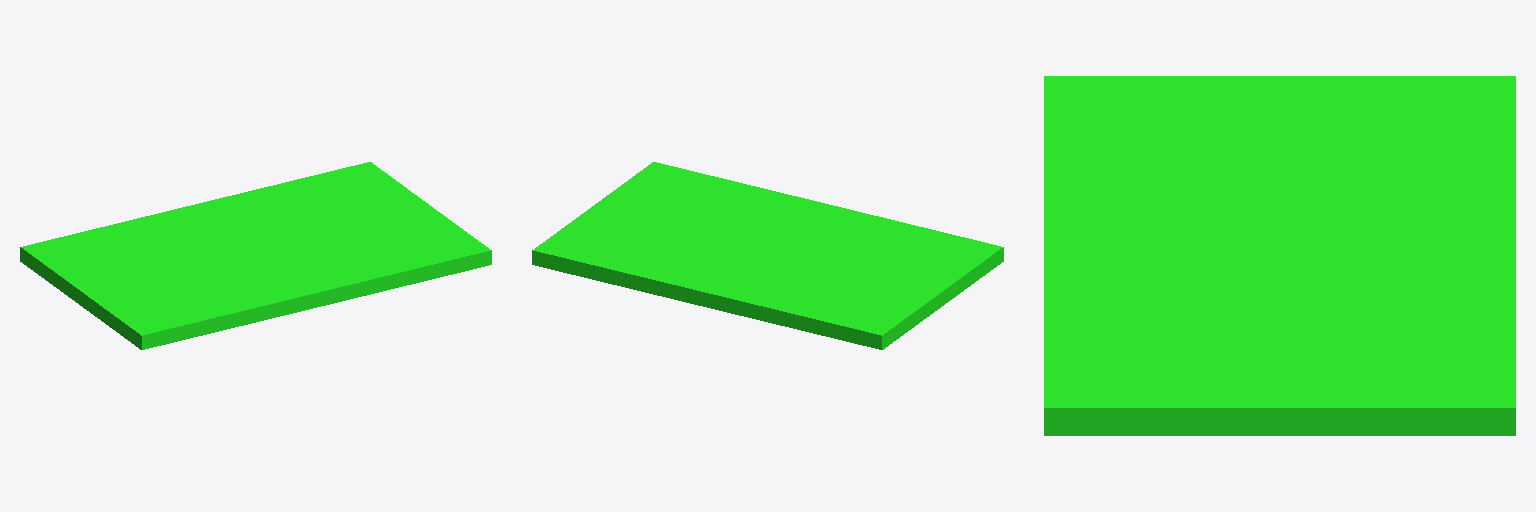
URDF robot description (robot):
<?xml version="1.0"?>
<robot name="robot">
<!-- -->
<!--<robot xmlns:xacro="http://www.ros.org/wiki/xacro" name="robot_arm">-->

    <!--<xacro:include filename="robot_arm_include.xacro"/>-->


    <!-- links and joints -->

    <!-- world -->
    <!-- empty because it is anchorpoint for world -->
    <link name="world"></link>

    <joint name="base_joint" type="fixed">
        <origin xyz="1.5 1.0 0" rpy="0 0 0"/>
        <parent link="world"/>
        <child link="base_link"/>        
    </joint>

    <link name="base_link">
        <visual>
            <origin xyz="0 0 0.05" rpy="0 0 0"/>
            <geometry>
                <box size ="2.5 1.5 0.1" />
            </geometry>
            <material name="green">
                <color rgba="0.2 1 0.2 1"/>
            </material>
        </visual>
        <collision>
            <origin xyz="0 0 0.05" rpy="0 0 0"/>
            <geometry>
                <box size ="2.5 1.5 0.1" />
            </geometry>
        </collision>
        <inertial>
            <origin xyz="0 0 0.05" rpy="0 0 0"/>
            <mass value="12" />
            <inertia ixx="2.26" ixy="0.0" ixz="0.0" iyy="6.26" iyz="0.0" izz="8.6" />
        </inertial>
    </link>

</robot>

--- What the picture shows (computed from the rendered views, not written in the file) ---
Views: 3 orthographic renders of the robot side by side, from view 1: azimuth 30°, elevation 25°; view 2: azimuth 150°, elevation 25°; view 3: azimuth 270°, elevation 25°.
Robot: robot — 2 links, 1 joints (1 fixed); root link world; default pose: every joint at zero.
Visible links, largest first — view 1: base_link; view 2: base_link; view 3: base_link.
Boxes of the visible links, <box> form: base_link: <box>20,162,491,349</box>; base_link: <box>532,162,1003,349</box>; base_link: <box>1044,76,1515,435</box>.
Size in the robot's own frame: 2.5 by 1.5 by 0.1 metres.
Geometry: primitives only (box / cylinder / sphere), no mesh files.